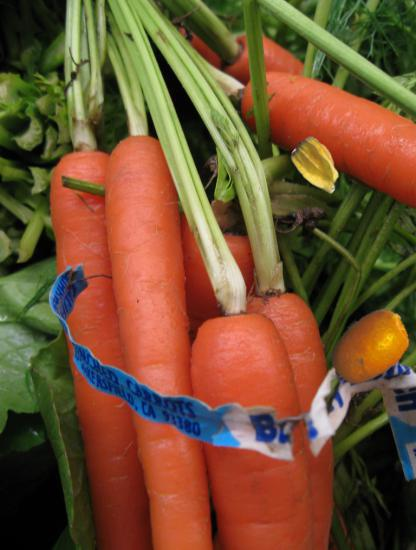Kumquats: (327, 304, 413, 390)
Physalis: (290, 137, 347, 194)
